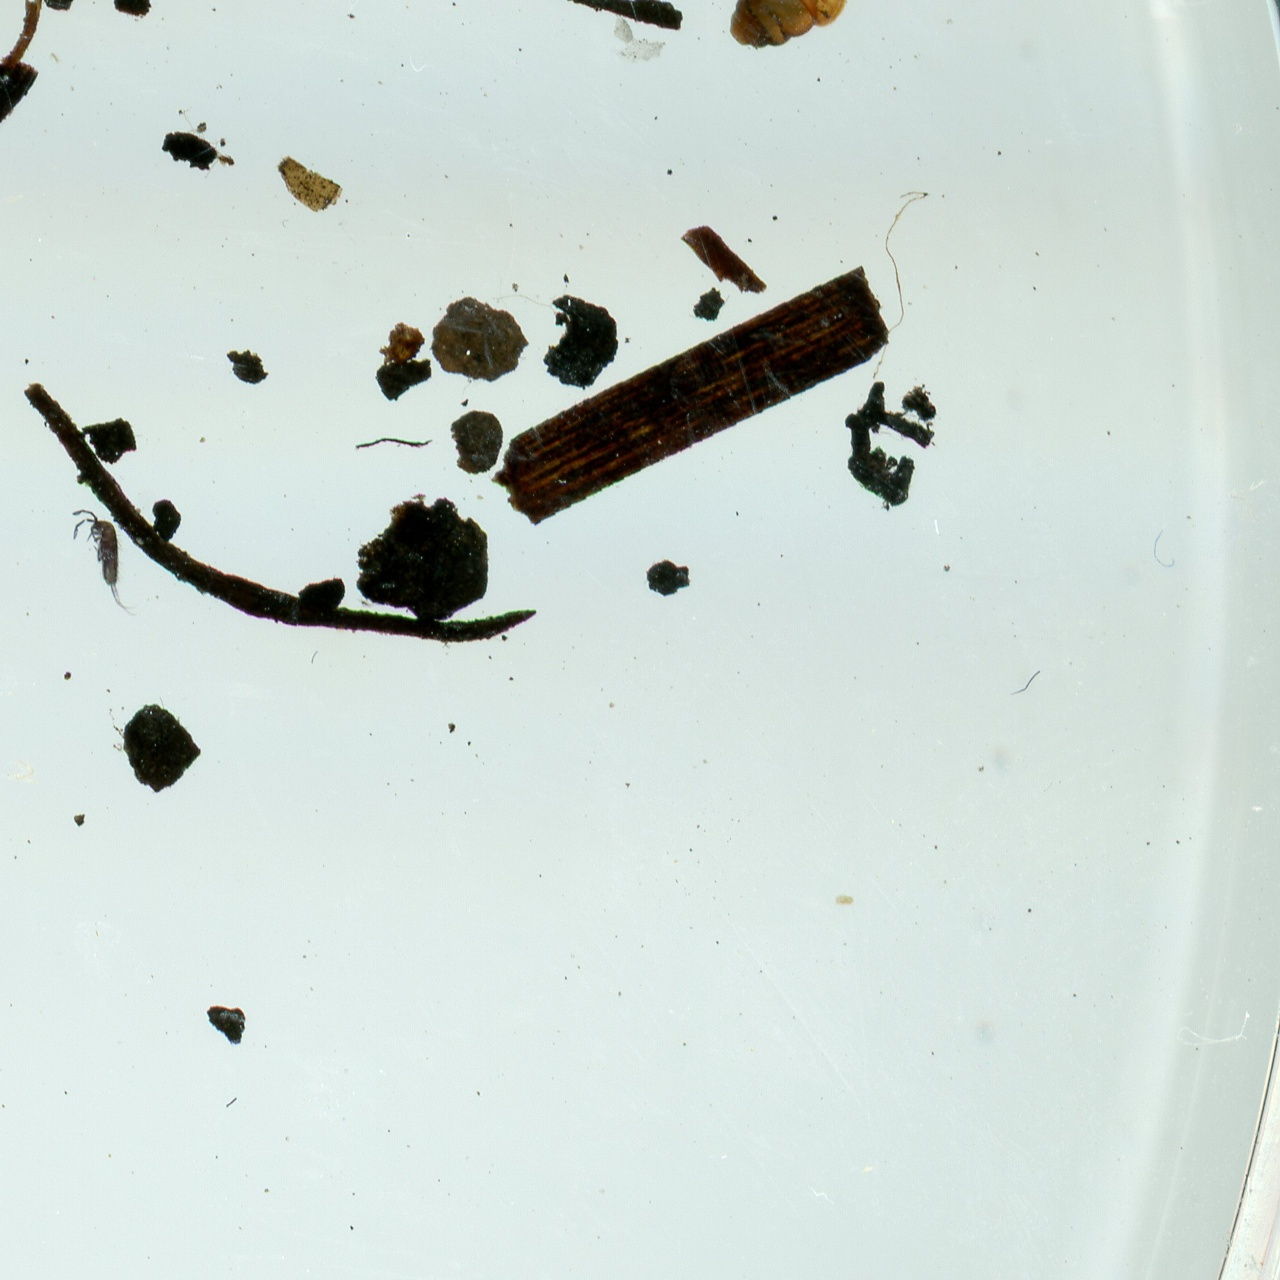arthropod: (69, 495, 144, 631), (724, 0, 853, 56)
